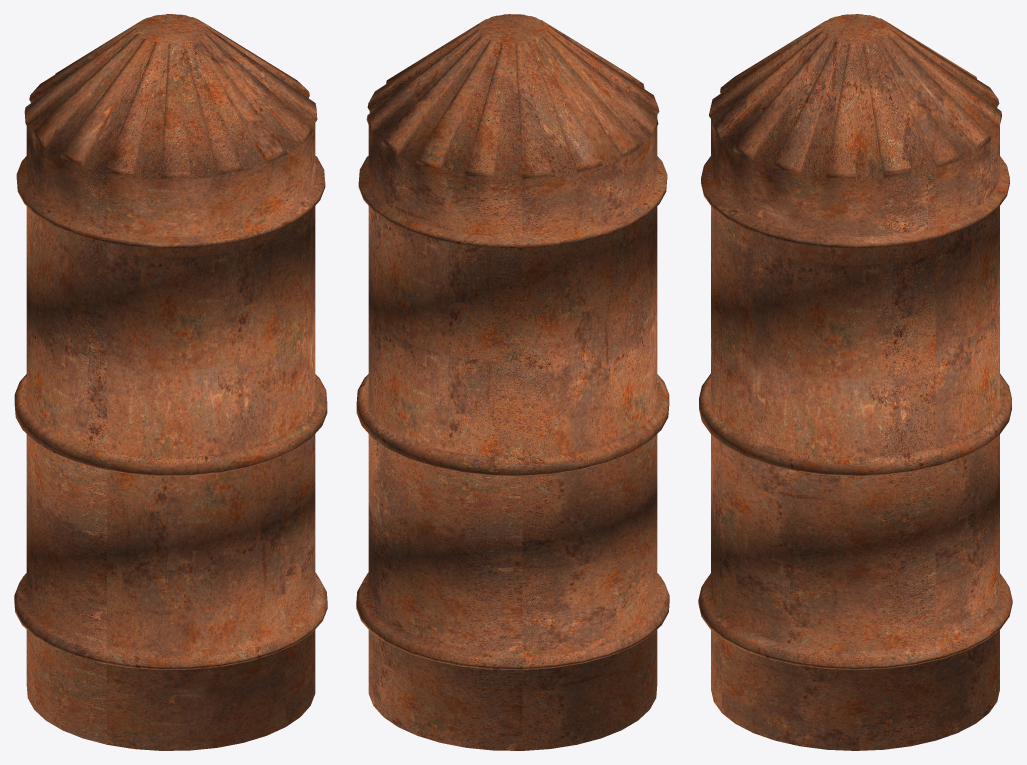
File: Silo.fbx
3 renders of one model, left to right at view 1: azimuth 30°, elevation 25°; view 2: azimuth 150°, elevation 25°; view 3: azimuth 270°, elevation 25°, orthographic.
Visible parts, largest first — view 1: Cylinder; view 2: Cylinder; view 3: Cylinder.
Part boxes in pixels (<box>): Cylinder: <box>14,14,327,750</box>; Cylinder: <box>356,14,669,750</box>; Cylinder: <box>698,14,1012,750</box>.
Bounding box in the file's own units: 647 × 1502 × 647.
